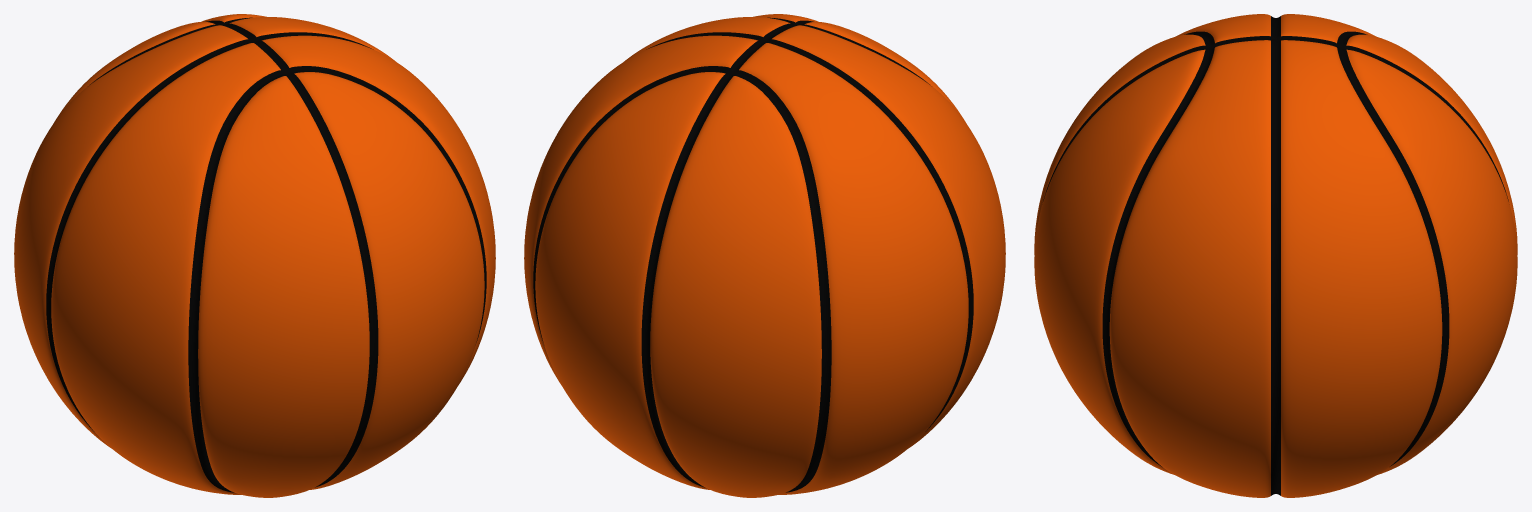
File: Basketball.fbx
The picture shows the model from 3 angles, left to right: view 1: azimuth 30°, elevation 25°; view 2: azimuth 150°, elevation 25°; view 3: azimuth 270°, elevation 25°; orthographic projection.
Parts seen in each view (by area): view 1: Basketball; view 2: Basketball; view 3: Basketball.
Boxes of the visible parts, x1,y1,x2,y2 form: Basketball: [14, 14, 495, 497]; Basketball: [524, 14, 1005, 497]; Basketball: [1034, 14, 1517, 497].
Bounding box in the file's own units: 162 × 162 × 162.
